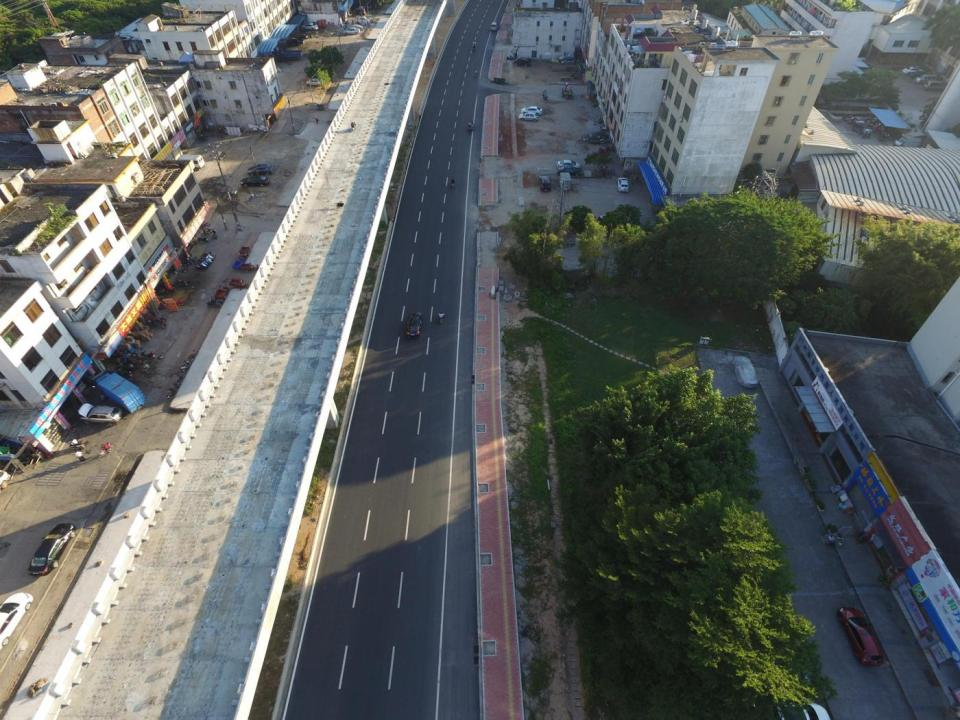car: (839, 606, 884, 668), (27, 522, 77, 577), (0, 592, 34, 651), (772, 702, 834, 720), (732, 350, 758, 390), (77, 403, 122, 425), (405, 311, 423, 338), (241, 175, 270, 188), (247, 163, 274, 176), (582, 132, 608, 145), (558, 166, 582, 177), (521, 105, 543, 116), (557, 159, 580, 169), (904, 65, 924, 76), (513, 56, 531, 68), (518, 112, 539, 122), (539, 175, 551, 192), (617, 176, 628, 193), (344, 27, 361, 36), (306, 77, 322, 86), (561, 56, 576, 65), (302, 22, 318, 30), (344, 24, 363, 30), (490, 21, 498, 32)
truck: (90, 369, 148, 412), (276, 49, 302, 62), (557, 171, 572, 190), (286, 38, 304, 46)
van: (175, 155, 205, 170), (922, 80, 948, 92), (914, 73, 938, 84)
